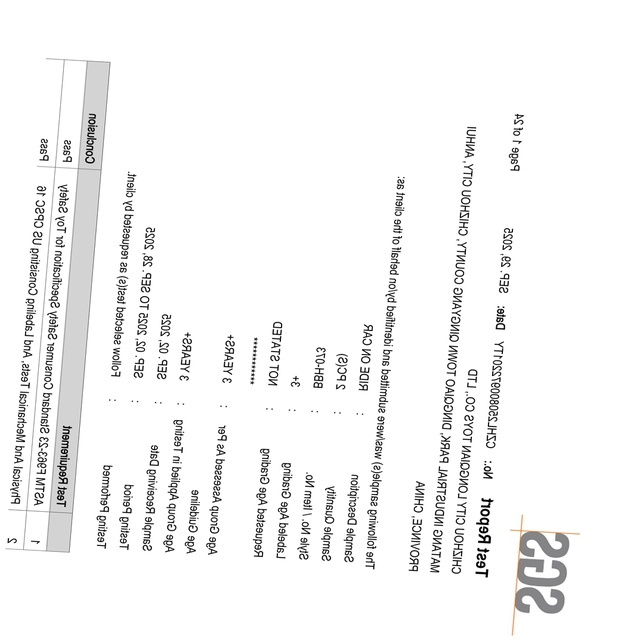sgs: (516, 530, 569, 614)
